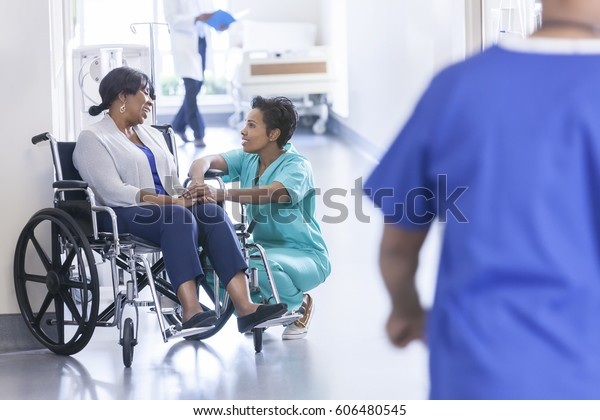wheelchair: (13, 67, 289, 368)
